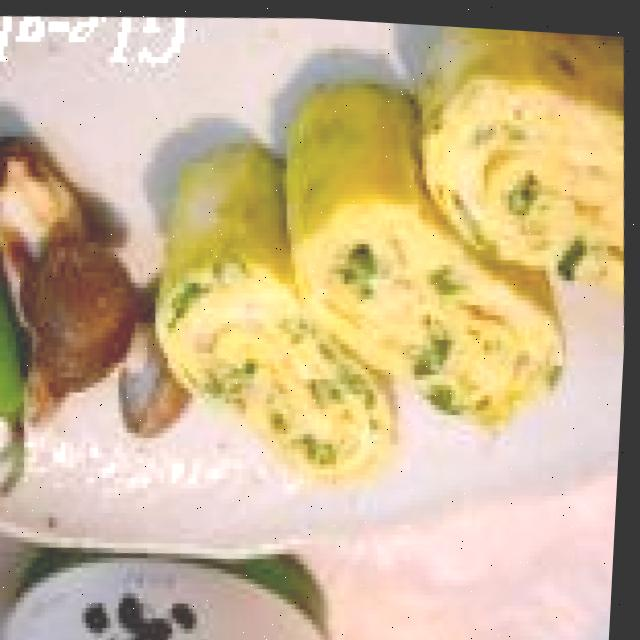鸡蛋料理: (139, 7, 640, 512)
